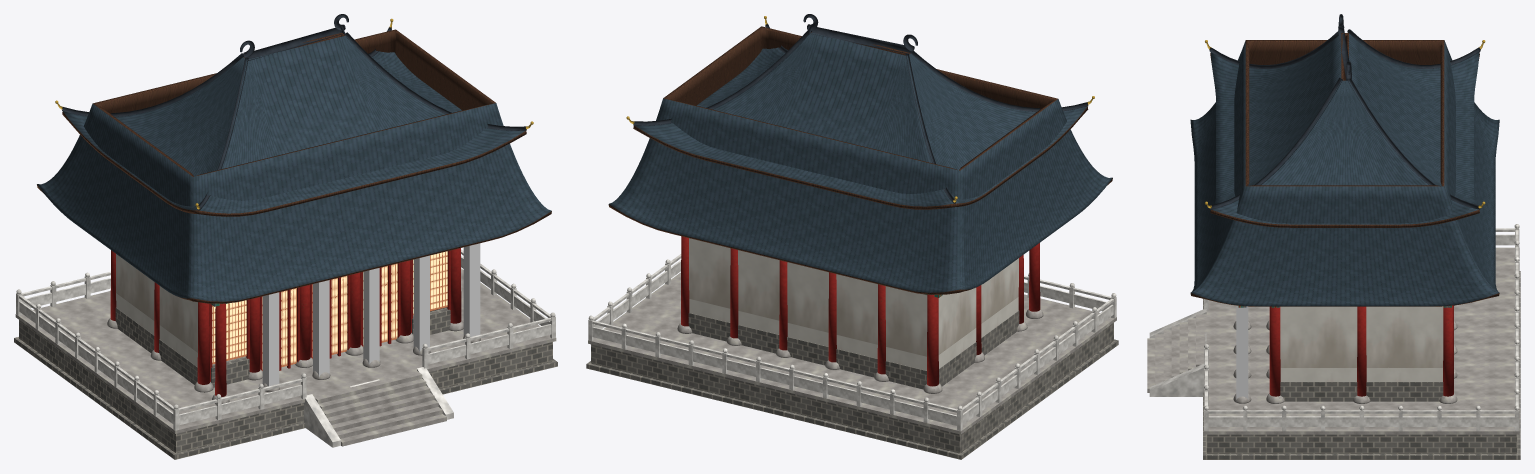
The model's file is main_hall.glb.
3 views of the same model, side by side, from view 1: azimuth 30°, elevation 25°; view 2: azimuth 150°, elevation 25°; view 3: azimuth 270°, elevation 25° (orthographic). The views are drawn at different scales.
Visible parts, largest first — view 1: LowerEave, UpperRoof, HallStairs, HallBase, HallBalustrade, Columns, LatticeDoors, Walls, DoorFrames, UpperRoofRidges, Dado, Pillar-convcolonly.001 (+6 smaller); view 2: LowerEave, UpperRoof, Walls, HallStairs, HallBase, HallBalustrade, Columns, Dado, UpperRoofRidges, ColumnBases; view 3: LowerEave, UpperRoof, HallStairs, Walls, HallBase, HallBalustrade, UpperRoofRidges, Dado, Columns, HallCheeks, Pillar-convcolonly.005, ColumnBases.
Part boxes in pixels (x1,y1,x2,y2): LowerEave: (37, 29, 551, 303); UpperRoof: (62, 33, 526, 216); HallStairs: (15, 268, 556, 446); HallBase: (14, 320, 557, 459); HallBalustrade: (16, 249, 555, 430); Columns: (110, 248, 461, 396); LatticeDoors: (212, 251, 447, 370); Walls: (116, 254, 197, 366); DoorFrames: (209, 250, 450, 381); UpperRoofRidges: (62, 14, 526, 210); Dado: (115, 307, 450, 387); Pillar-convcolonly.001: (262, 292, 279, 386); LowerEave: (608, 26, 1112, 294); UpperRoof: (633, 32, 1088, 209); Walls: (689, 238, 1018, 370); HallStairs: (588, 272, 1116, 434); HallBase: (586, 323, 1118, 459); HallBalustrade: (588, 254, 1116, 431); Columns: (681, 236, 1040, 386); Dado: (688, 311, 1019, 389); UpperRoofRidges: (633, 14, 1088, 203); ColumnBases: (677, 309, 1043, 393); LowerEave: (1190, 40, 1499, 306); UpperRoof: (1210, 33, 1479, 227); HallStairs: (1147, 247, 1519, 434); Walls: (1280, 306, 1443, 381); HallBase: (1203, 271, 1520, 459); HallBalustrade: (1204, 224, 1519, 431); UpperRoofRidges: (1209, 14, 1480, 209); Dado: (1280, 382, 1443, 401); Columns: (1269, 305, 1453, 396); HallCheeks: (1149, 309, 1206, 396); Pillar-convcolonly.005: (1236, 305, 1248, 399); ColumnBases: (1233, 305, 1457, 403).
Size of what is drawn, in the model's own units: 18.3 by 15.2 by 15.63.
Materials: 12 (12 with a texture image).
